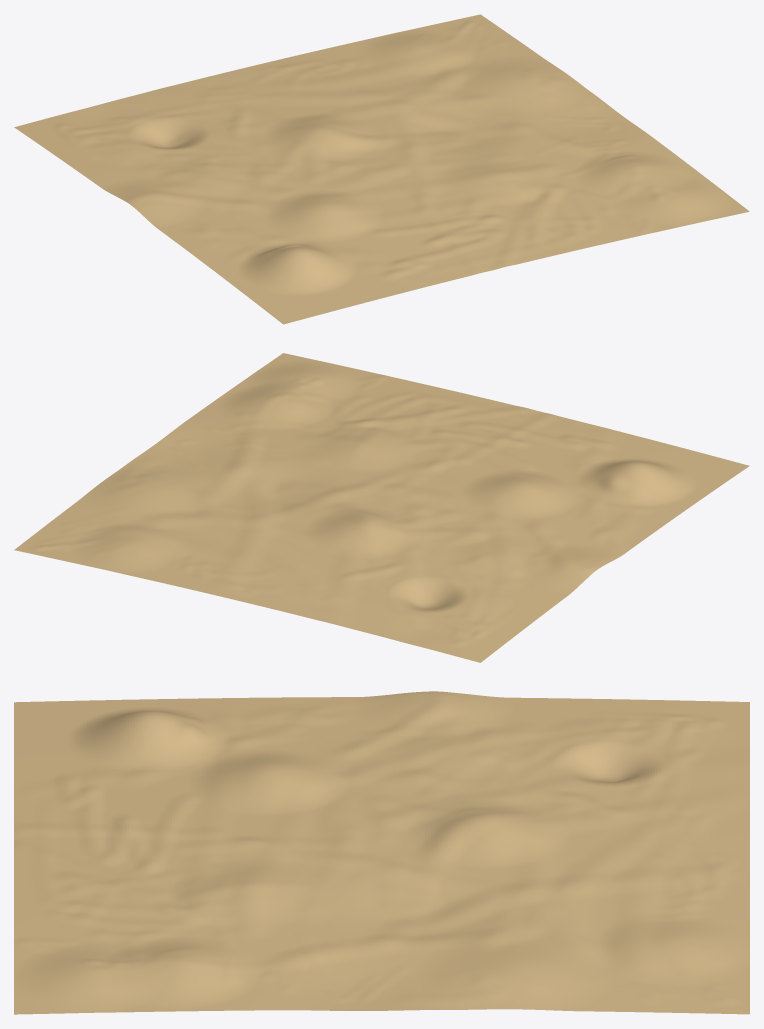
The model's file is oceanfloor.fbx.
3 views of the same model, one above another, from view 1: azimuth 30°, elevation 25°; view 2: azimuth 150°, elevation 25°; view 3: azimuth 270°, elevation 25° (orthographic). The views are drawn at different scales.
Parts seen in each view (by area): view 1: Plane; view 2: Plane; view 3: Plane.
Part boxes in pixels (bbox=[...]): Plane: bbox=[14, 14, 749, 324]; Plane: bbox=[14, 353, 749, 662]; Plane: bbox=[14, 691, 749, 1014].
Bounding box in the file's own units: 61983 × 3286 × 61979.
